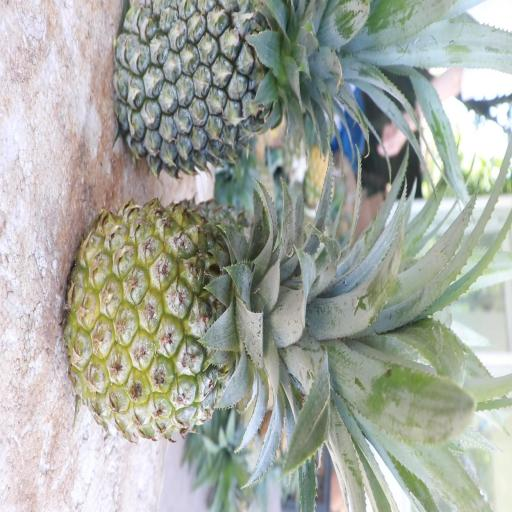------------------------------: (60, 199, 352, 448)
